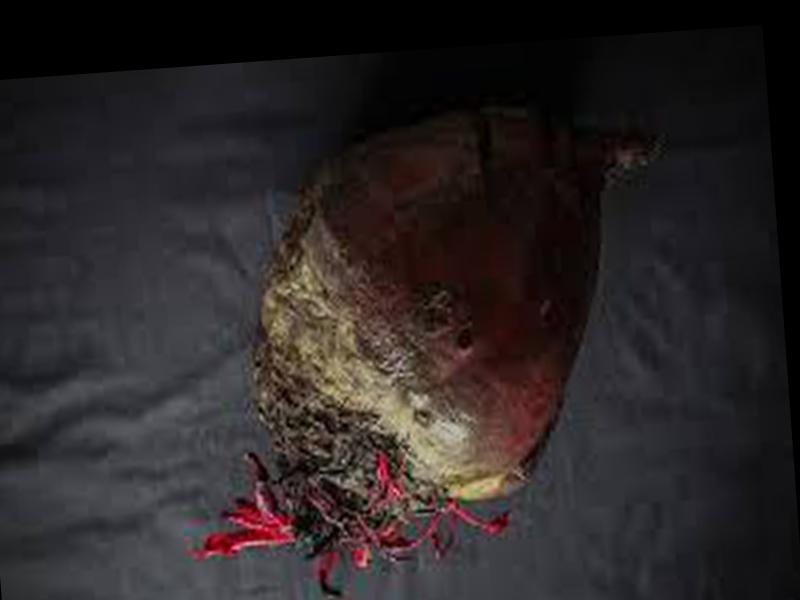Beet: (164, 97, 694, 600)
